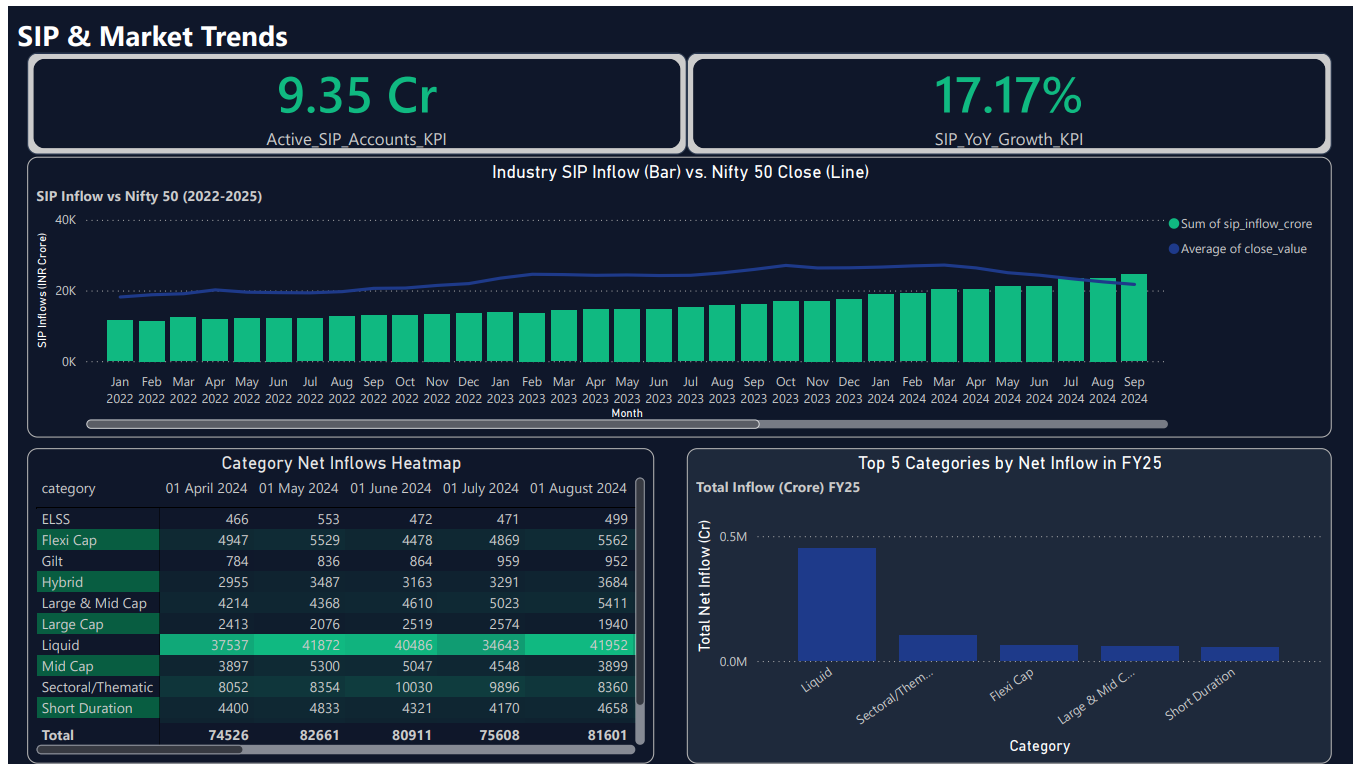

What the dashboard file says about the page in this screenshot:
{"tool":"powerbi","page":{"name":"SIP & Market Trends","canvas":[1280,720],"ordinal":3},"visuals":[{"type":"lineStackedColumnComboChart","title":"Industry SIP Inflow (Bar) vs. Nifty 50 Close (Line)","fields":{"Y":["Sum(Fact_SIP_Industry.sip_inflow_crore)"],"Y2":["Avg(Fact_Benchmark_Indices.close_value)"],"Category":["Dim_Date.Month"]},"box":[17.8,142.7,1241.9,267.6],"z":0},{"type":"pivotTable","title":"Category Net Inflows Heatmap","fields":{"Rows":["Fact_Category_Inflow.category"],"Columns":["Fact_Category_Inflow.month"],"Values":["Sum(Fact_Category_Inflow.net_inflow_crore)"]},"box":[17.8,419.9,596.9,300.5],"z":1000},{"type":"clusteredColumnChart","title":"Top 5 Categories by Net Inflow in FY25","fields":{"Category":["Fact_Category_Inflow.category"],"Y":["Sum(Fact_Category_Inflow.net_inflow_crore)"]},"box":[646.3,419.9,613.4,300.5],"z":2000},{"type":"textbox","box":[0,0,286.8,57.6],"z":3000},{"type":"cardVisual","fields":{"Data":["Dim_Date.SIP_YoY_Growth_KPI"]},"box":[646.3,43.9,613.4,97.4],"z":4000},{"type":"cardVisual","fields":{"Data":["Dim_Date.Active_SIP_Accounts_KPI"]},"box":[17.8,43.9,628.5,97.4],"z":5000}]}

Visuals, with their boxes in screenshot pixels (x1, y1, x2, y2), scaled from the page's 1280x720 canvas onto the 1361x772 screenshot:
"Industry SIP Inflow (Bar) vs. Nifty 50 Close (Line)" lineStackedColumnComboChart: l=19, t=153, r=1339, b=440
"Category Net Inflows Heatmap" pivotTable: l=19, t=450, r=654, b=771
"Top 5 Categories by Net Inflow in FY25" clusteredColumnChart: l=687, t=450, r=1339, b=771
textbox: l=0, t=0, r=305, b=62
cardVisual - Dim_Date.SIP_YoY_Growth_KPI: l=687, t=47, r=1339, b=152
cardVisual - Dim_Date.Active_SIP_Accounts_KPI: l=19, t=47, r=687, b=152
